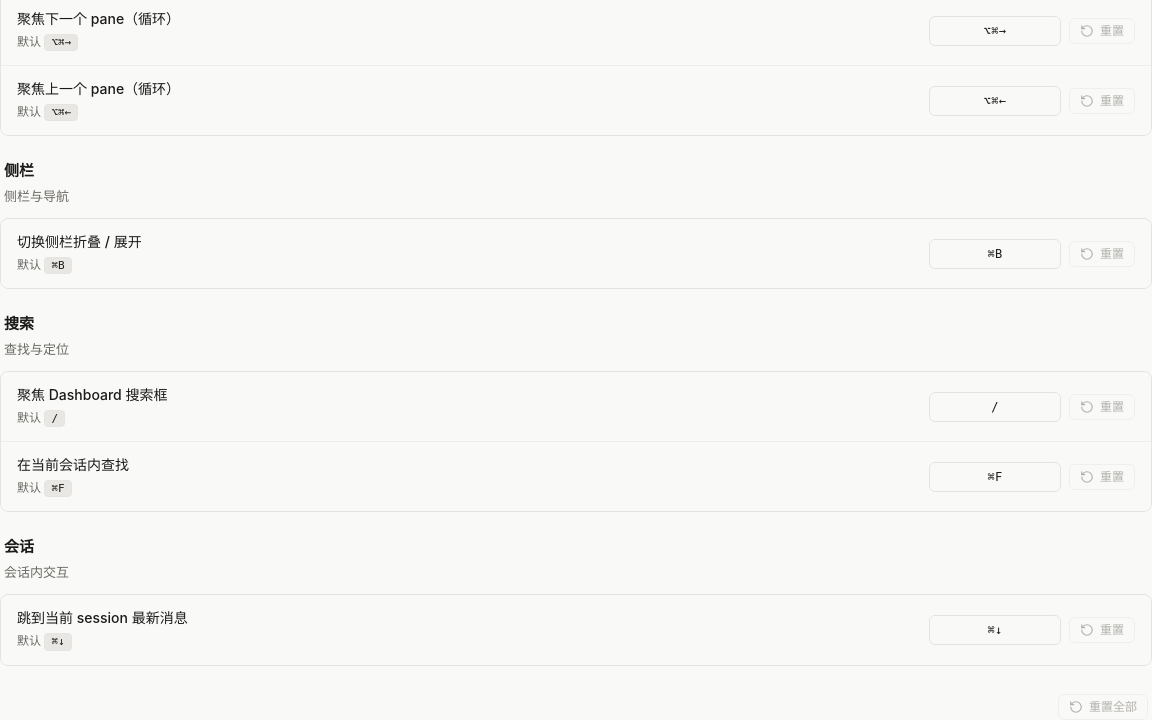
Test: KeyboardShortcutsPanel › Save：commit 后点 Save 调 updateConfig 并清 pending bar
(page scrolled)
Focus the button "⌘B" at coordinates (995, 254), box [929,239,1061,269]
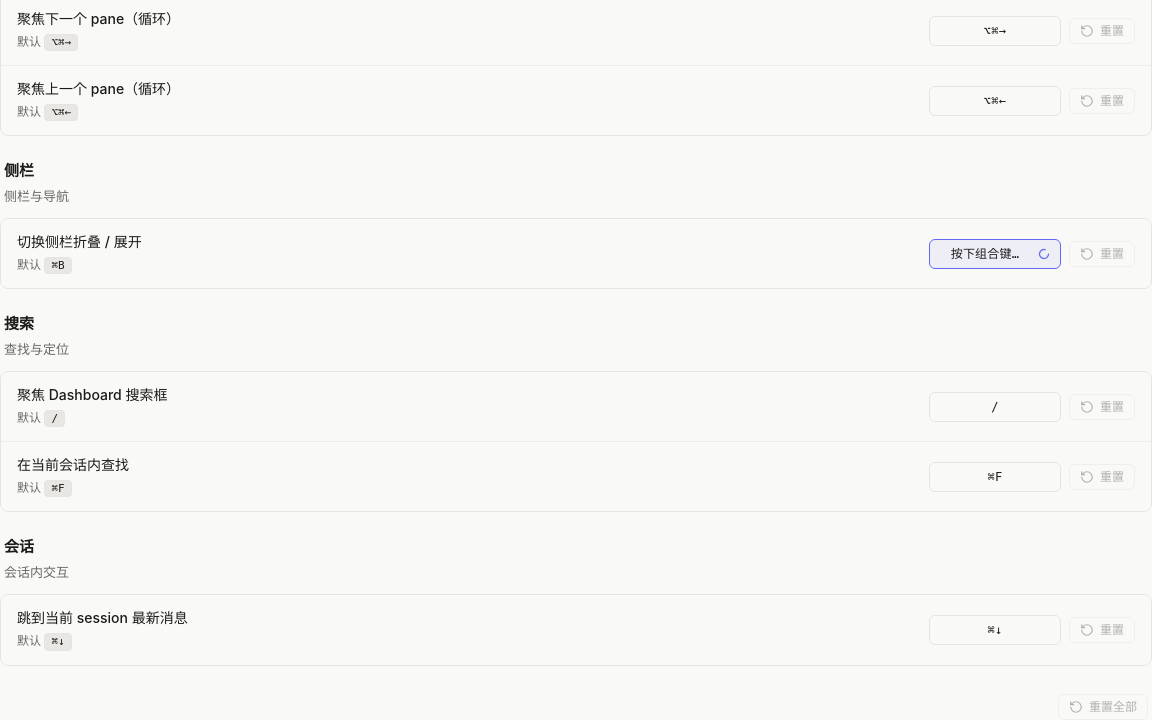
Press x in the button "按下组合键…", box [929,239,1061,269]
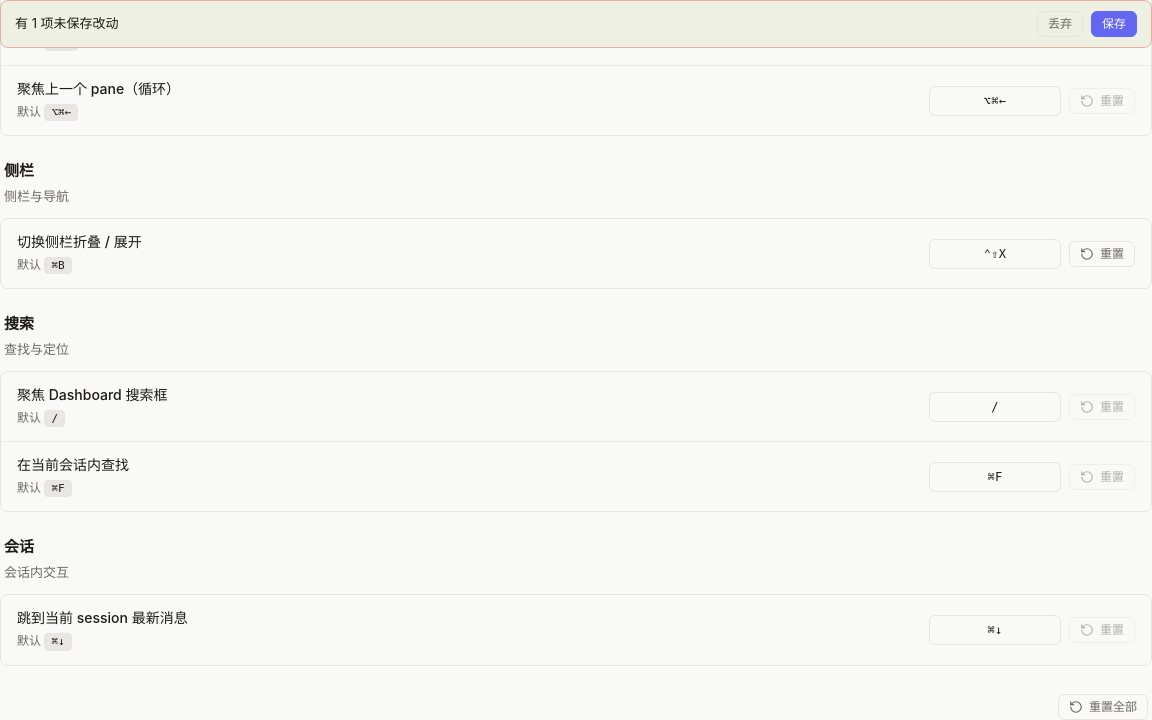
Result: the button "保存" is shown
Click the button "保存" at coordinates (1114, 24), box [1091,11,1137,37]
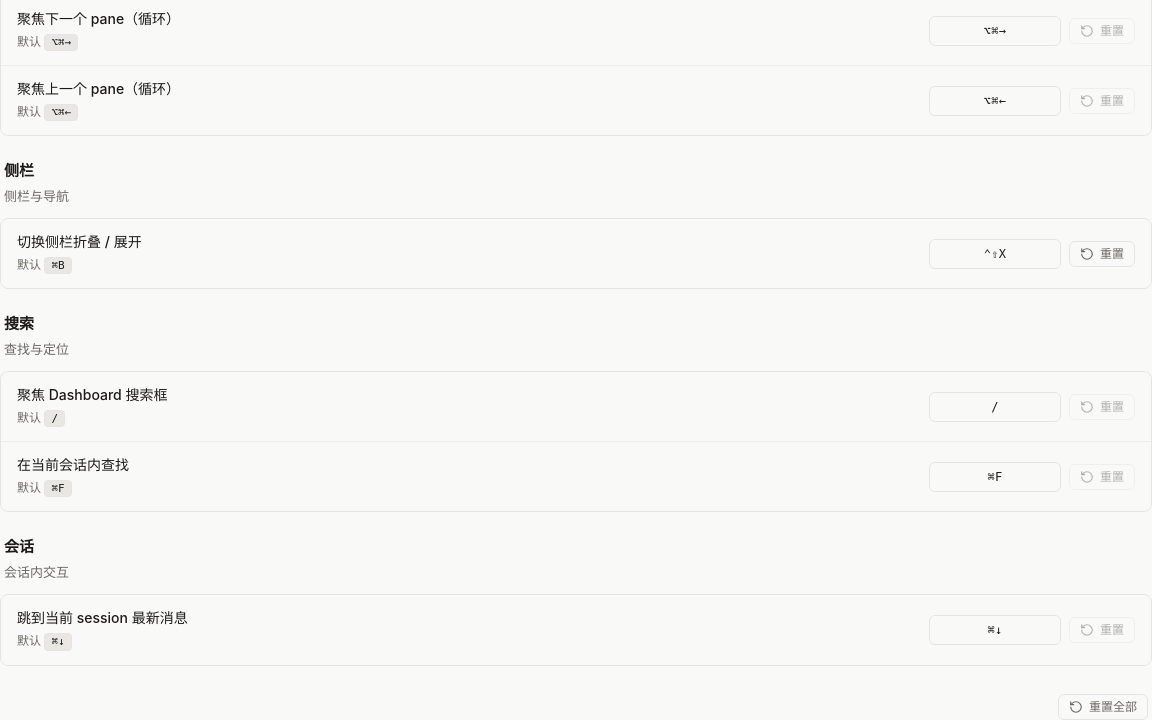
Result: the message "有 1 项未保存改动 丢弃 保存" is gone
